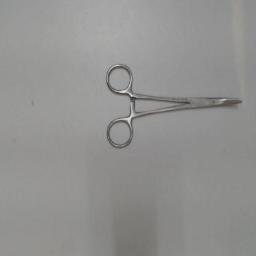Crile Artery Forceps: (104, 58, 246, 150)
